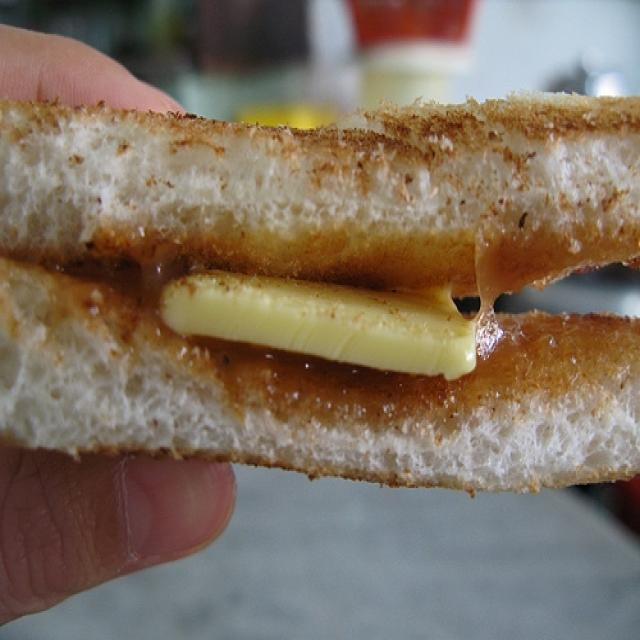面包点心: (18, 55, 627, 527)
